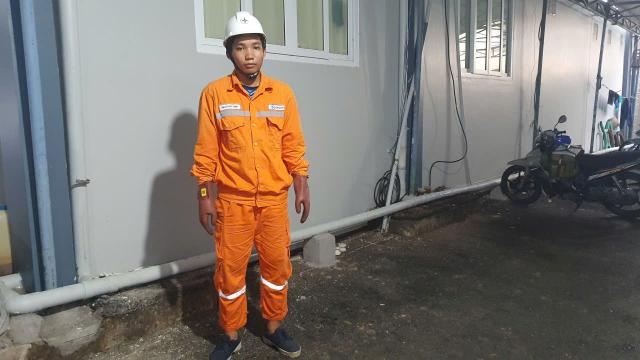gloves: (277, 172, 321, 227), (191, 177, 224, 238)
helmet: (214, 7, 271, 46)
shoes: (260, 320, 306, 359), (214, 324, 246, 360)
